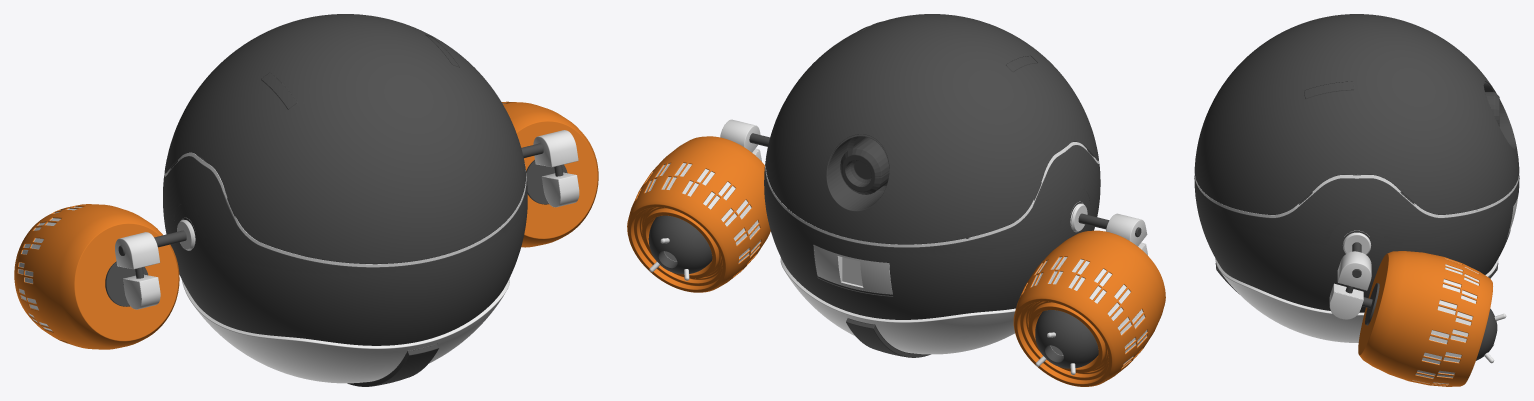
File: Robot 1.fbx
3 views of the same model, side by side, from view 1: azimuth 30°, elevation 25°; view 2: azimuth 150°, elevation 25°; view 3: azimuth 270°, elevation 25° (orthographic). The views are drawn at different scales.
Parts seen in each view (by area): view 1: Dyblikat_Yshi, Base, Cylinder.007, Base.002, Cube.001, Cube.002, Cylinder.006, Dyblikat, Cylinder.004; view 2: Dyblikat_Yshi, Cylinder.007, Base, Base.002, Cube.003, Base.001, Cube.001, Dyblikat, Cylinder.004; view 3: Dyblikat_Yshi, Cylinder.007, Base, Base.002, Dyblikat, Cube.001, Cube.002, Cube.003, Cylinder.003, Cylinder.006.
Part boxes in pixels (x1,y1,x2,y2): Dyblikat_Yshi: (163,14,527,274); Base: (163,35,527,345); Cylinder.007: (14,101,598,349); Base.002: (181,278,509,386); Cube.001: (115,130,578,269); Cube.002: (123,172,579,309); Cylinder.006: (105,160,567,306); Dyblikat: (164,152,526,267); Cylinder.004: (118,143,543,255); Dyblikat_Yshi: (764,14,1100,295); Cylinder.007: (627,136,1165,386); Base: (764,56,1100,319); Base.002: (780,258,1015,357); Cube.003: (648,215,1098,368); Base.001: (813,245,892,294); Cube.001: (720,119,1147,246); Dyblikat: (765,142,1099,247); Cylinder.004: (749,133,1141,237); Dyblikat_Yshi: (1194,14,1519,244); Cylinder.007: (1358,251,1492,386); Base: (1194,81,1519,312); Base.002: (1215,258,1498,342); Dyblikat: (1194,174,1519,217); Cube.001: (1337,251,1371,290); Cube.002: (1329,283,1363,319); Cube.003: (1476,309,1497,360); Cylinder.003: (1342,230,1371,254); Cylinder.006: (1362,283,1379,325).
Size of the model in its own units: 509 by 303 by 295.
